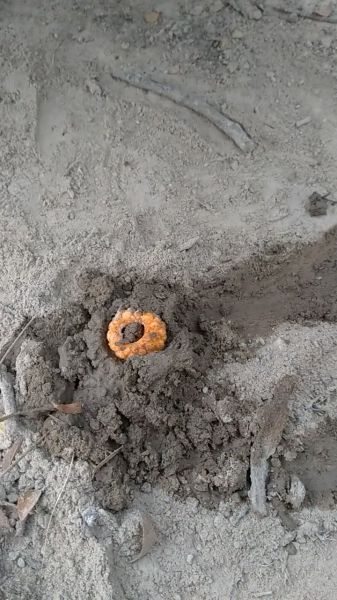eggs: (100, 301, 171, 364)
